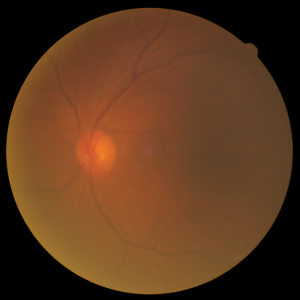cataract: (40, 104, 260, 204)
